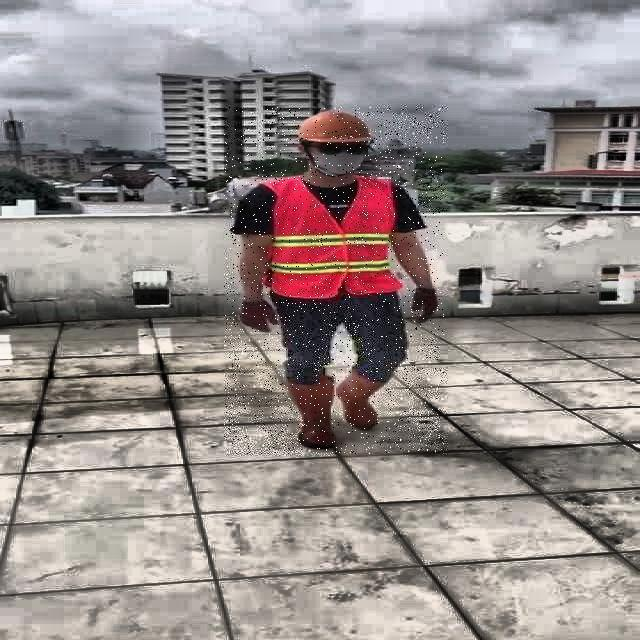safety_helmet: (290, 109, 374, 143)
safety_jacket: (268, 178, 400, 297)
